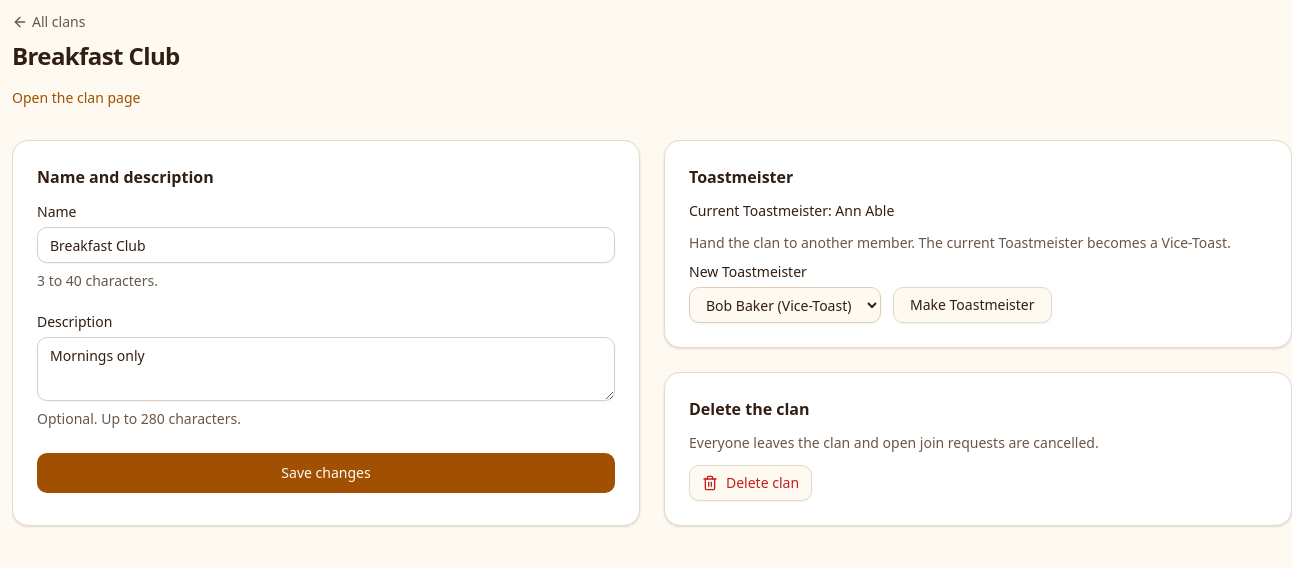
it: AdminClanPage › edits the name through the admin route
The width and height of the screenshot is (1292, 568).
Replace the text in the field labelled "Name" with "Brunch Club": {"x": 326, "y": 245} [37, 227, 615, 263]
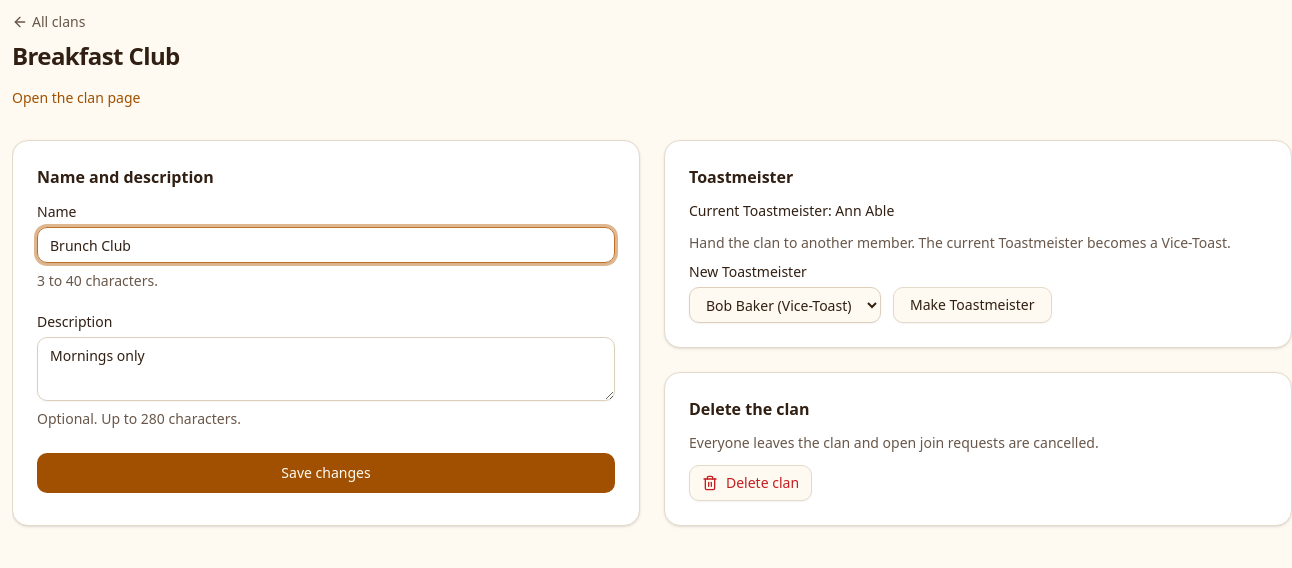
Click the button "Save changes": {"x": 326, "y": 473} [37, 453, 615, 493]
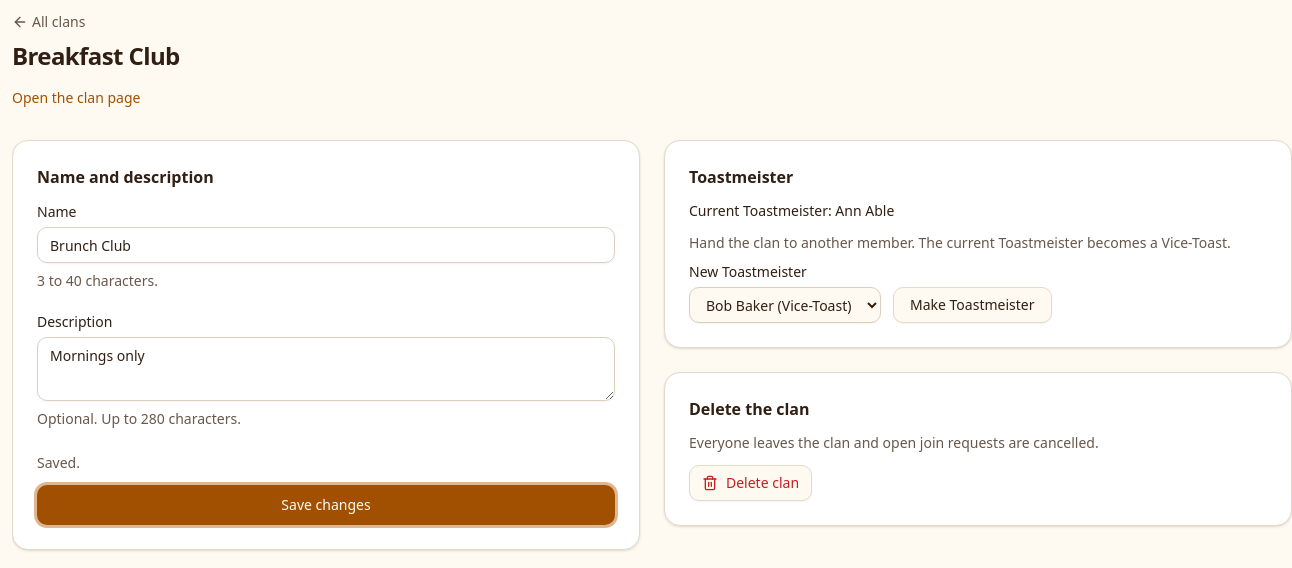
Check: the text "Saved." is shown, box [37, 453, 80, 472]
